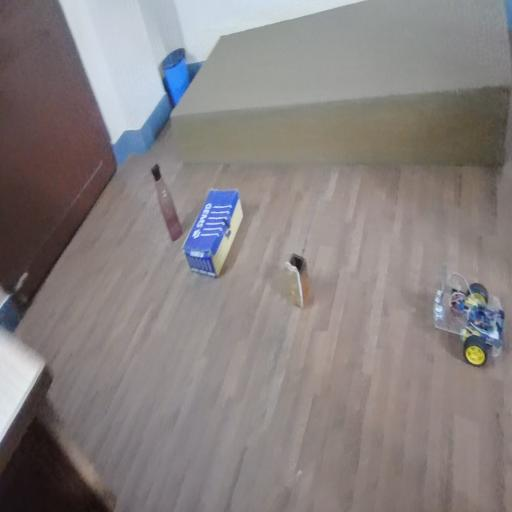Bottle: (140, 165, 182, 236)
car: (423, 275, 512, 373)
